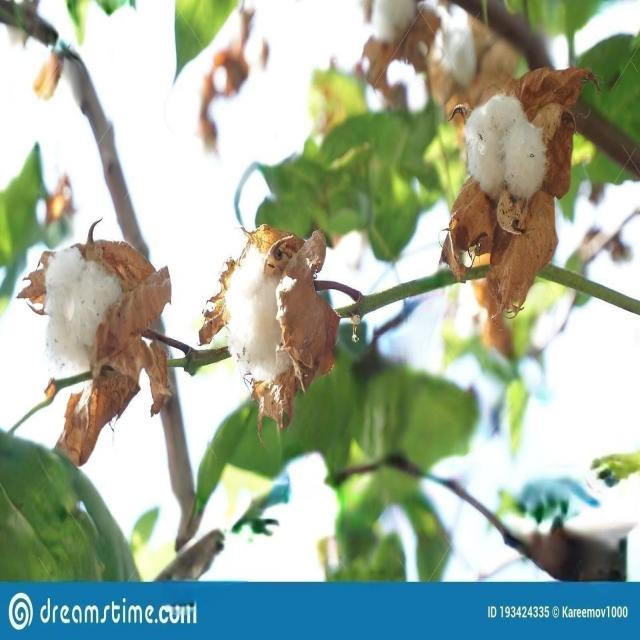Early_blight: (4, 209, 178, 476), (437, 60, 601, 318), (191, 219, 347, 452)
